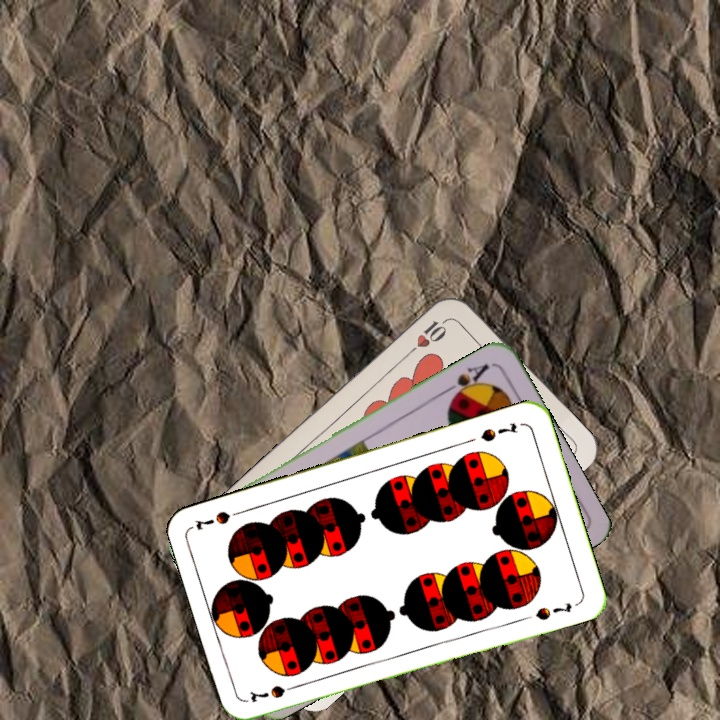H10: (403, 314, 452, 358)
S7: (246, 680, 303, 705), (476, 419, 520, 445)
SA: (440, 359, 491, 403)
